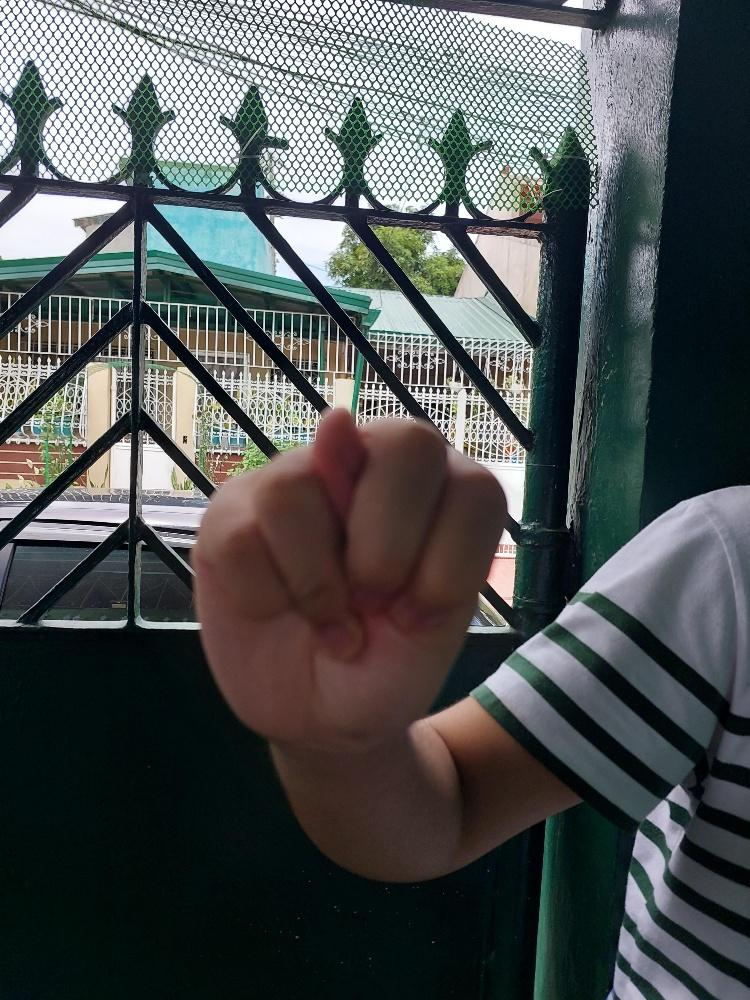n: (189, 399, 511, 754)
